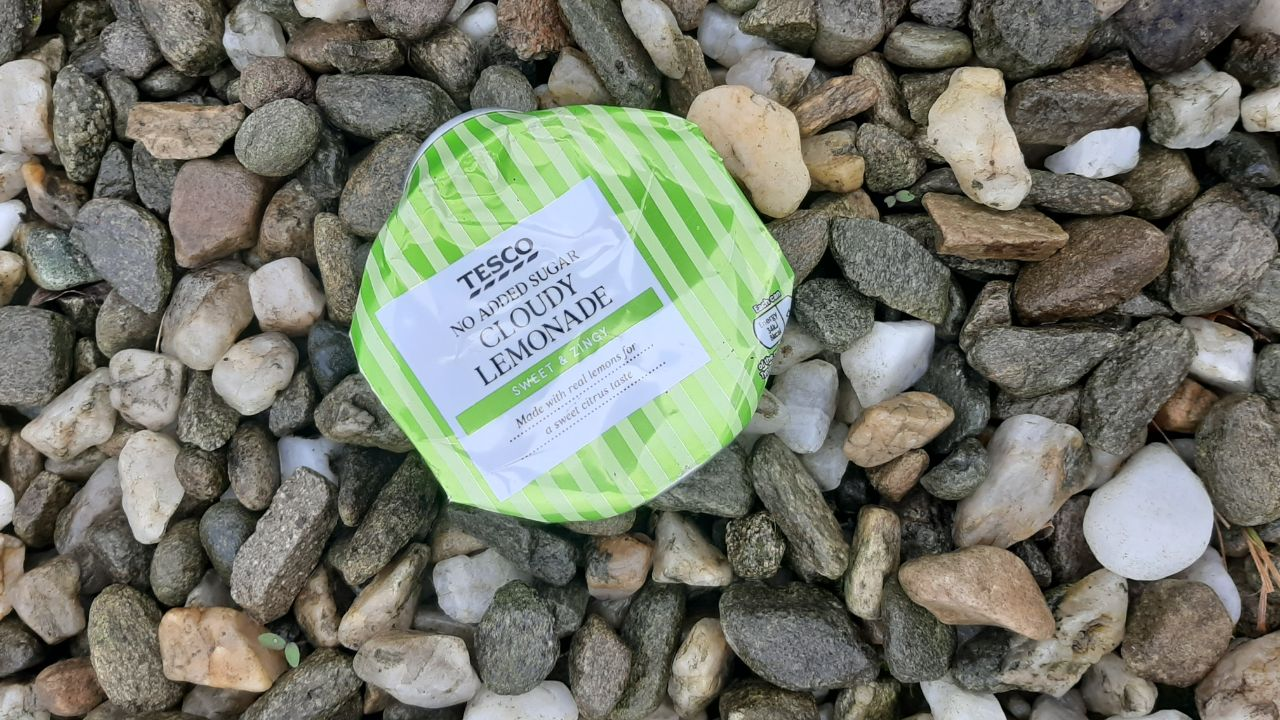Can: (345, 104, 797, 527)
